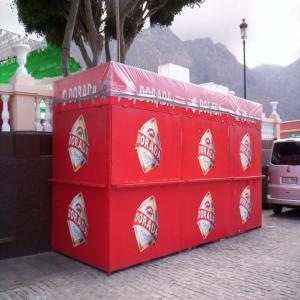Vehicle-registration-plate: (282, 179, 297, 185)
